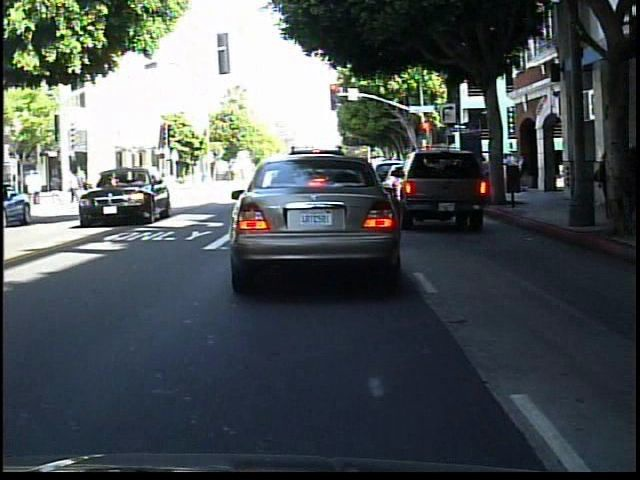person: (617, 141, 640, 219), (590, 140, 612, 217), (70, 163, 84, 206), (73, 162, 90, 196), (51, 169, 65, 206)
